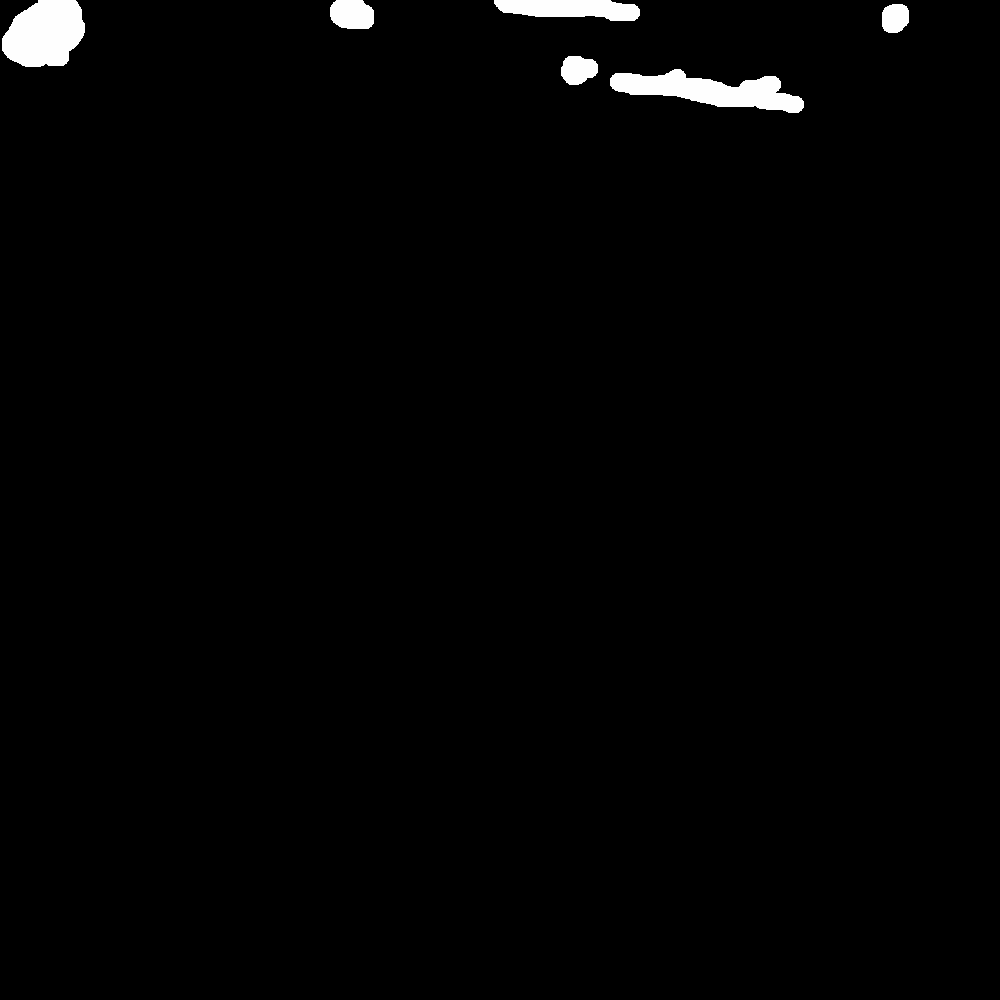illegal: (557, 55, 799, 113), (6, 1, 86, 74), (489, 1, 618, 23), (336, 1, 368, 32), (886, 3, 906, 25)
